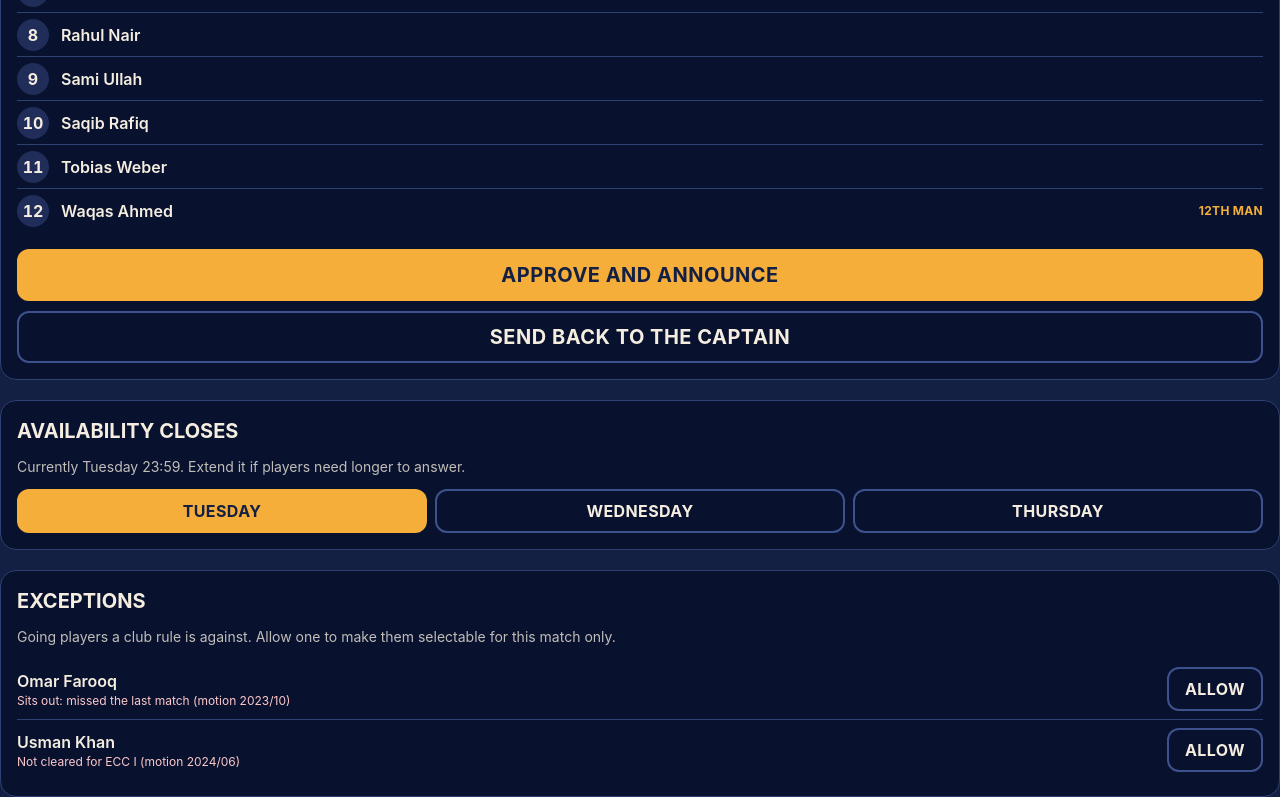
Test: BoardSquadView › extends the deadline
(page scrolled)
What coordinates should you click on to do the following:
click the button "Tuesday"
I would click on:
 (222, 511)
Its box is 17,489 -> 427,533.
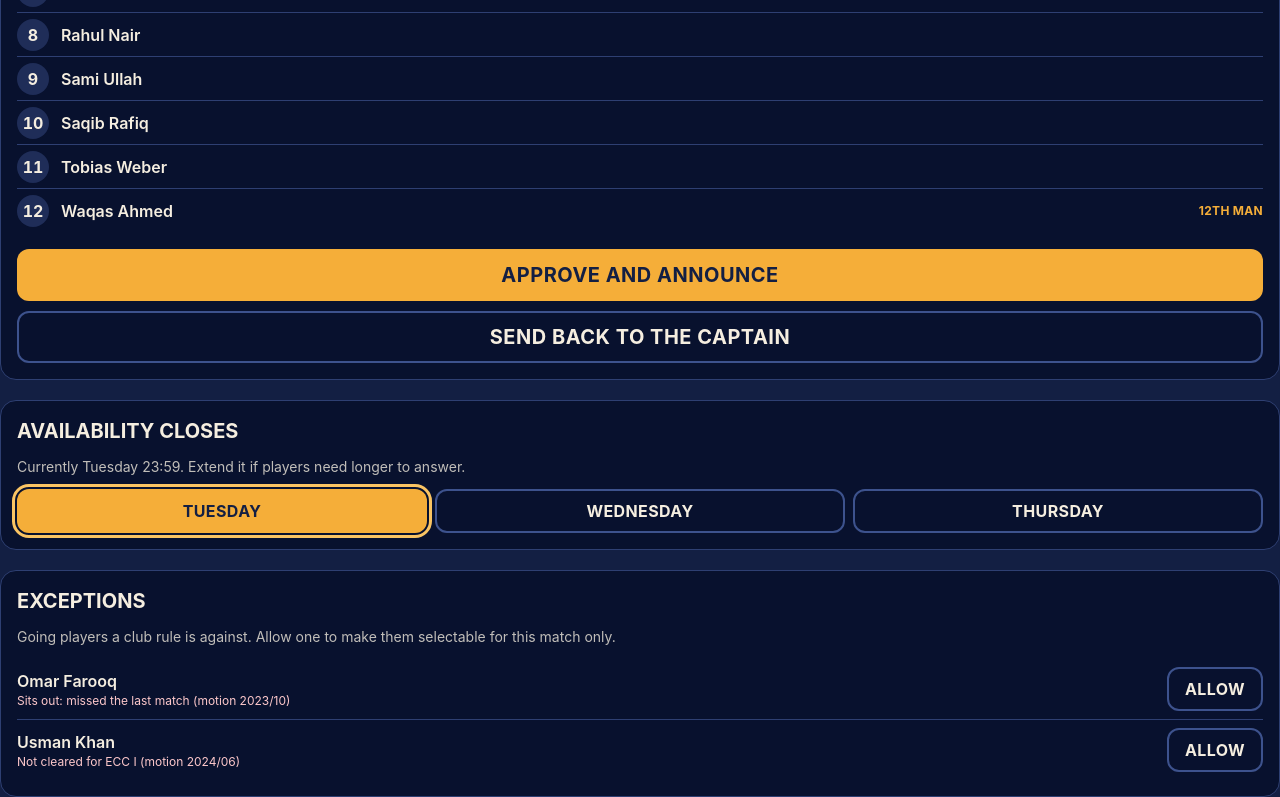
What coordinates should you click on to do the following:
click the button "Thursday"
I would click on:
 (1058, 511)
Its box is 853,489 -> 1263,533.
(page scrolled)
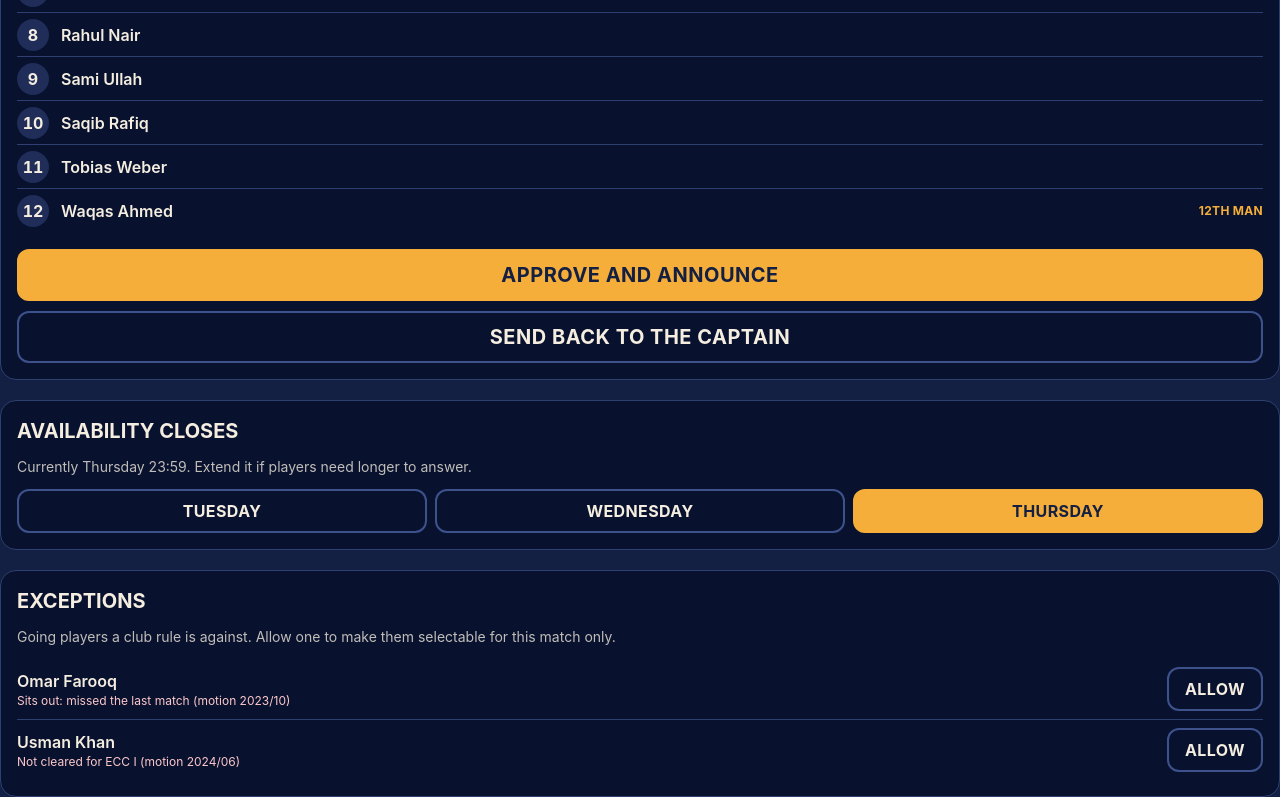
Result: the text "Currently Thursday 23:59" is shown at 17,458 -> 472,475
